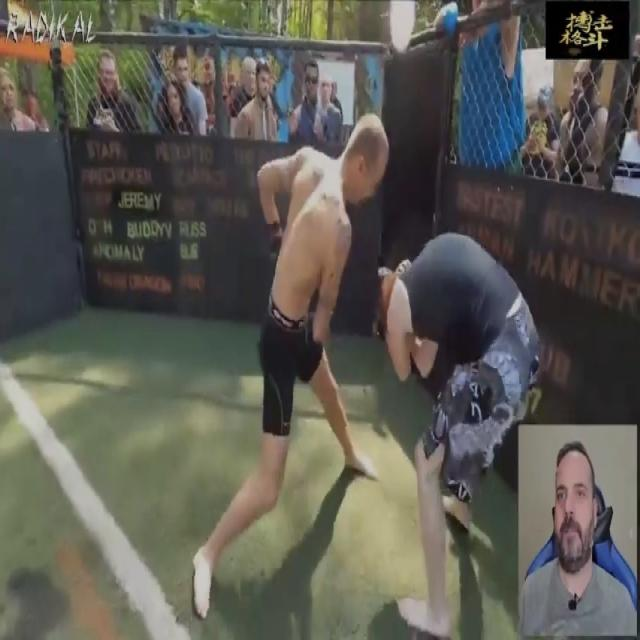fight: (179, 102, 548, 638)
